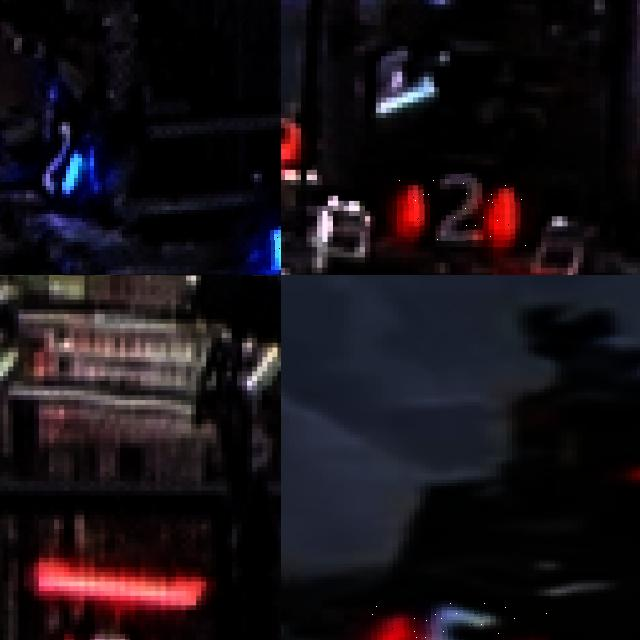R2: (397, 170, 530, 247), (36, 617, 163, 640)
R5: (371, 596, 550, 640)
